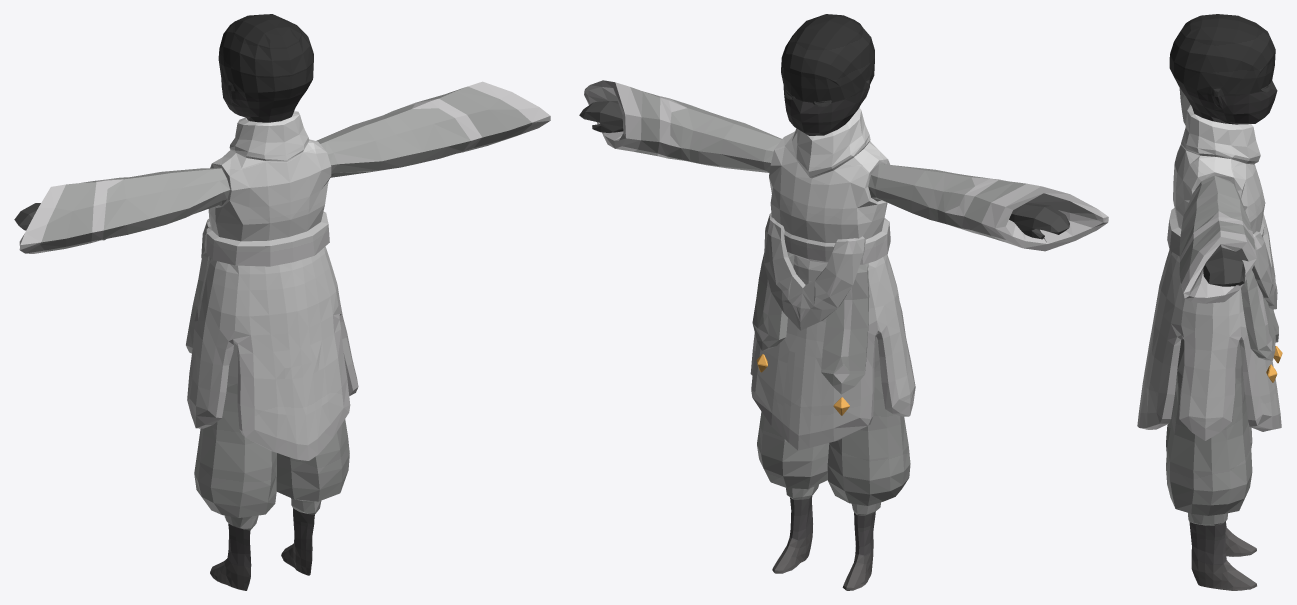
The model's file is CharSkyKid_Body_AP25Tunic.glb.
The picture shows the model from 3 angles, left to right: view 1: azimuth 30°, elevation 25°; view 2: azimuth 150°, elevation 25°; view 3: azimuth 270°, elevation 25°; orthographic projection.
Visible parts, largest first — view 1: CharSkyKid_Body_AP25Tunic; view 2: CharSkyKid_Body_AP25Tunic; view 3: CharSkyKid_Body_AP25Tunic.
Boxes of the visible parts, x1=… form: CharSkyKid_Body_AP25Tunic: x1=14, y1=14, x2=550, y2=590; CharSkyKid_Body_AP25Tunic: x1=579, y1=14, x2=1108, y2=590; CharSkyKid_Body_AP25Tunic: x1=1137, y1=14, x2=1282, y2=590.
Size of the model in its own units: 14.94 by 14.94 by 3.57.
Materials: 1 (1 with a texture image).
